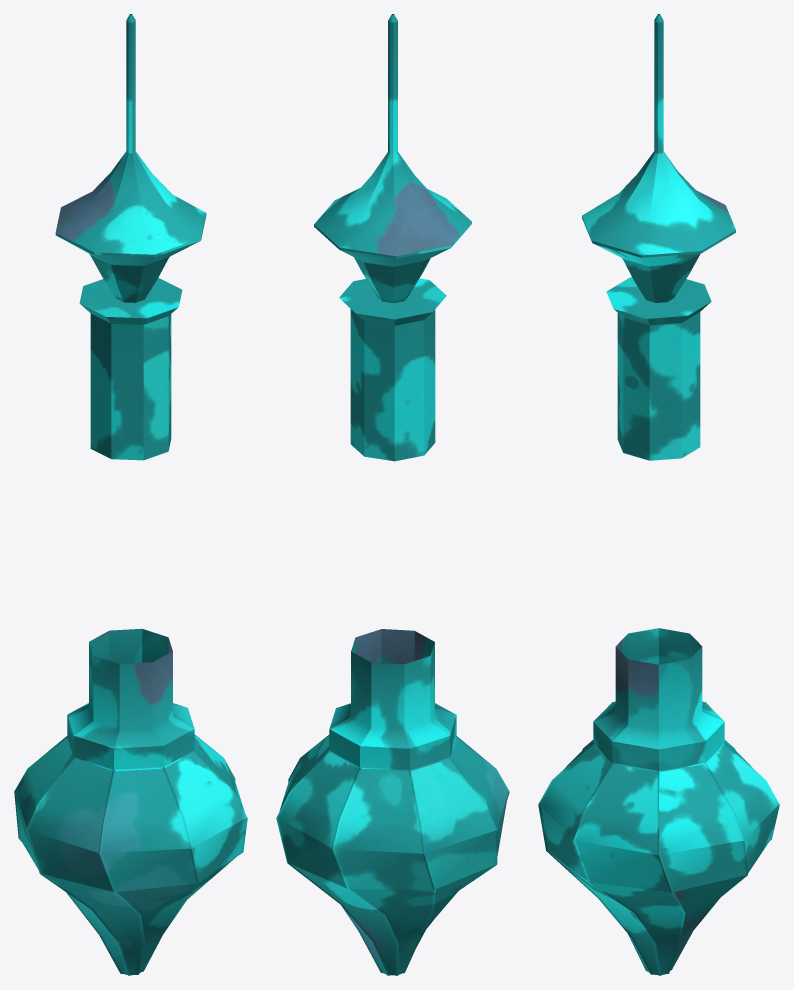
The model's file is Lantern and Roof piece.fbx.
The picture shows the model from 3 angles, left to right: view 1: azimuth 30°, elevation 25°; view 2: azimuth 150°, elevation 25°; view 3: azimuth 270°, elevation 25°; orthographic projection.
Visible parts, largest first — view 1: Lantern, Roof_Upper_Piece, Roof_Base_Piece; view 2: Lantern, Roof_Upper_Piece, Roof_Base_Piece; view 3: Lantern, Roof_Upper_Piece, Roof_Base_Piece.
Part boxes in pixels (box(x1,y1,x2,y2)): Lantern: box(14, 628, 247, 975); Roof_Upper_Piece: box(55, 14, 206, 324); Roof_Base_Piece: box(90, 313, 171, 460); Lantern: box(276, 629, 509, 975); Roof_Upper_Piece: box(314, 14, 471, 325); Roof_Base_Piece: box(350, 309, 435, 461); Lantern: box(538, 628, 779, 975); Roof_Upper_Piece: box(582, 14, 735, 325); Roof_Base_Piece: box(617, 312, 700, 460).
Size of the model in its own units: 128 by 559 by 128.
